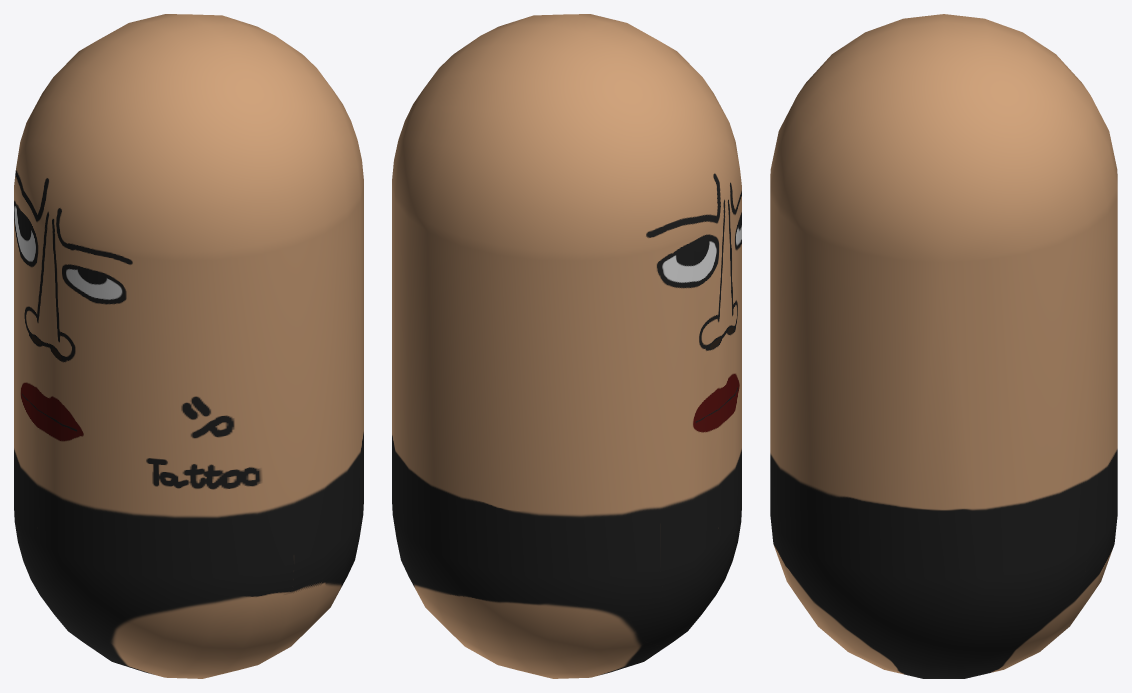
3 views of the same model, side by side, from view 1: azimuth 30°, elevation 25°; view 2: azimuth 150°, elevation 25°; view 3: azimuth 270°, elevation 25° (orthographic).
Parts seen in each view (by area): view 1: Model 6; view 2: Model 6; view 3: Model 6.
Part boxes in pixels (bbox=[...]): Model 6: bbox=[14, 14, 363, 678]; Model 6: bbox=[392, 14, 741, 678]; Model 6: bbox=[770, 14, 1117, 678].
Size of the model in its own units: 200 by 398 by 199.
1 material, 1 textured.
